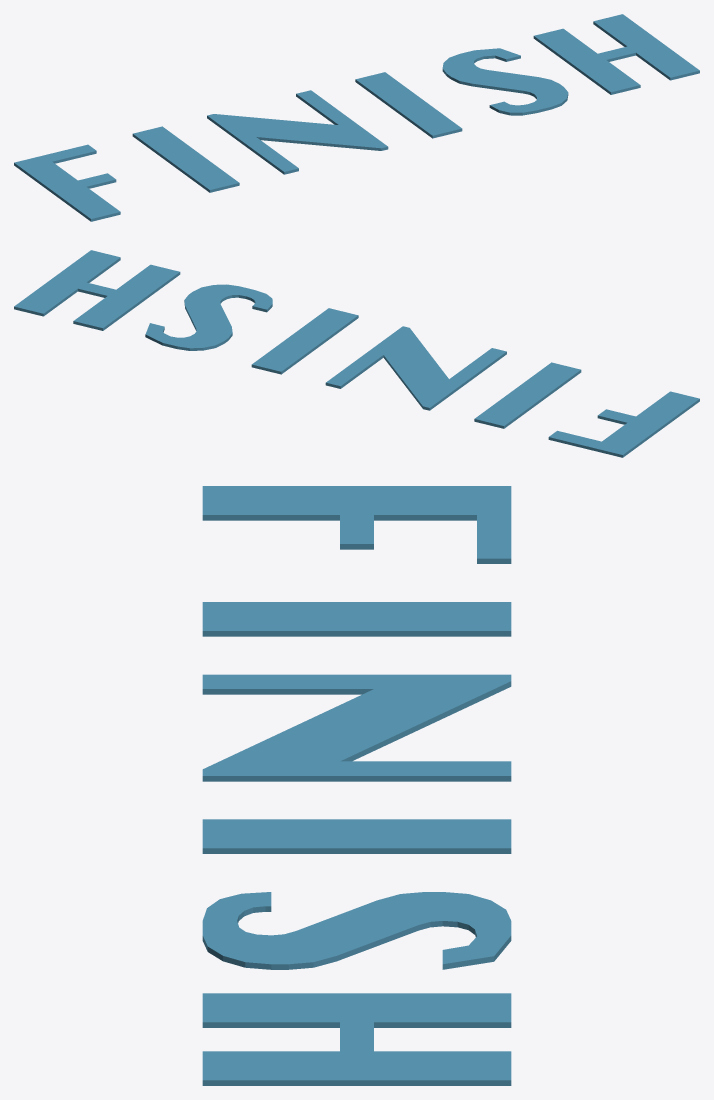
File: Isl_8_Sign_Finish.fbx
3 views of the same model, one above another, from view 1: azimuth 30°, elevation 25°; view 2: azimuth 150°, elevation 25°; view 3: azimuth 270°, elevation 25° (orthographic). The views are drawn at different scales.
Parts seen in each view (by area): view 1: Isl_8_Sign_Finish; view 2: Isl_8_Sign_Finish; view 3: Isl_8_Sign_Finish.
Boxes of the visible parts, <box> form: Isl_8_Sign_Finish: <box>14,14,699,221</box>; Isl_8_Sign_Finish: <box>14,250,699,457</box>; Isl_8_Sign_Finish: <box>202,486,511,1085</box>.
Size of the model in its own units: 490 by 108 by 2.15.
Materials: 1 (1 with a texture image).
